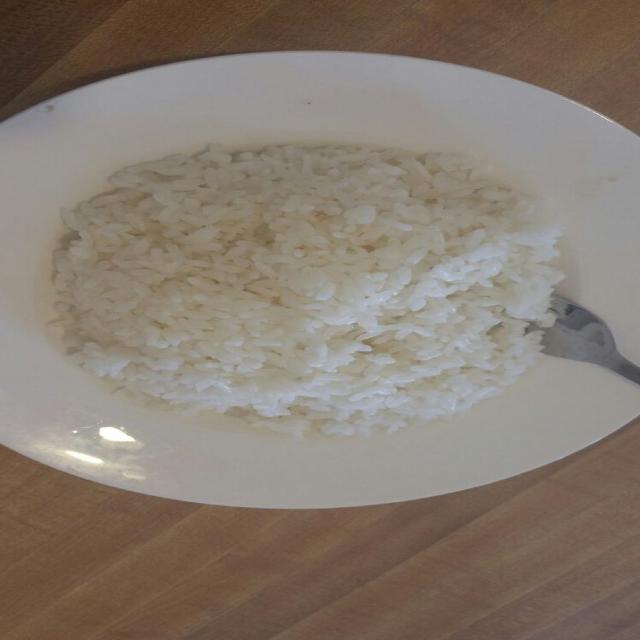nasi_putih: (52, 146, 574, 444)
